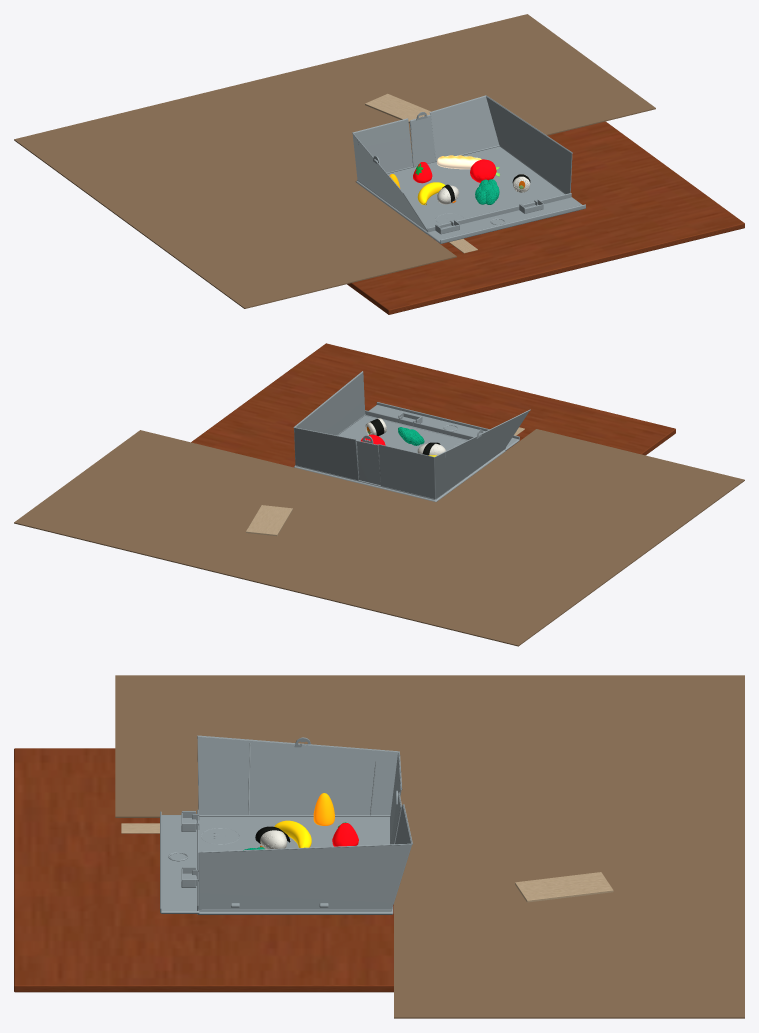
Rendered from codex.glb.
3 views of the same model, one above another, from view 1: azimuth 30°, elevation 25°; view 2: azimuth 150°, elevation 25°; view 3: azimuth 270°, elevation 25° (orthographic). The views are drawn at different scales.
Visible parts, largest first — view 1: Continuous brown fiberboard background, Table, Broad tray floor, Right wall, Back wall right section, Back wall left section, Left wall, Front broad flange, Back central molded panel, Pale wood at upper right, Front outer rolled lip, Front inner lip (+1 smaller); view 2: Continuous brown fiberboard background, Table, Left wall, Back wall right section, Back wall left section, Right wall, Broad tray floor, Front broad flange, Pale wood at upper right, Back central molded panel, Front inner lip; view 3: Continuous brown fiberboard background, Table, Left wall, Right wall, Broad tray floor, Front broad flange, Pale wood at upper right, Single smooth curved yellow banana, Right floor cove, Round ended orange cone.
Part boxes in pixels (bbox=[...]): Continuous brown fiberboard background: bbox=[14, 14, 655, 308]; Table: bbox=[347, 121, 744, 314]; Broad tray floor: bbox=[356, 146, 564, 233]; Right wall: bbox=[486, 96, 572, 193]; Back wall right section: bbox=[430, 96, 499, 160]; Back wall left section: bbox=[353, 119, 412, 172]; Left wall: bbox=[352, 133, 427, 231]; Front broad flange: bbox=[426, 197, 582, 243]; Back central molded panel: bbox=[410, 115, 435, 167]; Pale wood at upper right: bbox=[365, 93, 430, 123]; Front outer rolled lip: bbox=[440, 204, 585, 243]; Front inner lip: bbox=[427, 193, 571, 232]; Continuous brown fiberboard background: bbox=[14, 429, 744, 646]; Table: bbox=[191, 343, 675, 467]; Left wall: bbox=[434, 409, 529, 498]; Back wall right section: bbox=[294, 428, 358, 480]; Back wall left section: bbox=[378, 445, 435, 499]; Right wall: bbox=[294, 372, 365, 453]; Broad tray floor: bbox=[294, 416, 505, 501]; Front broad flange: bbox=[365, 405, 519, 450]; Pale wood at upper right: bbox=[246, 505, 292, 536]; Back central molded panel: bbox=[357, 441, 380, 485]; Front inner lip: bbox=[365, 410, 505, 448]; Continuous brown fiberboard background: bbox=[115, 675, 744, 1018]; Table: bbox=[14, 748, 393, 992]; Left wall: bbox=[197, 736, 398, 814]; Right wall: bbox=[198, 844, 411, 909]; Broad tray floor: bbox=[197, 817, 393, 914]; Front broad flange: bbox=[161, 815, 199, 913]; Pale wood at upper right: bbox=[515, 872, 613, 902]; Single smooth curved yellow banana: bbox=[274, 820, 311, 847]; Right floor cove: bbox=[198, 909, 391, 911]; Round ended orange cone: bbox=[313, 793, 334, 825].
Size of the model in its own units: 36 by 3.92 by 32.5.
19 materials, 4 textured.
